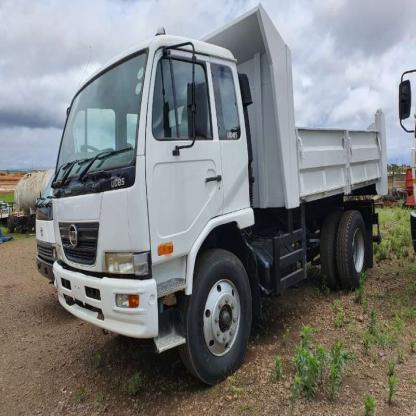dump_truck: (44, 5, 399, 385)
